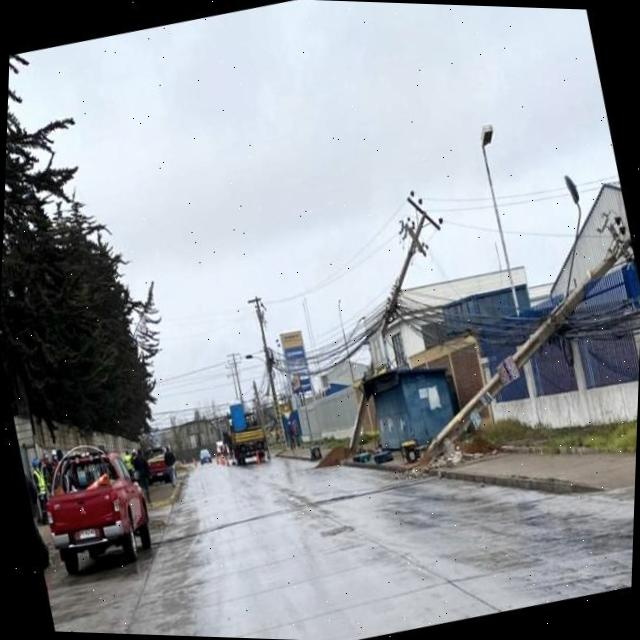Broken Pole: (420, 175, 637, 466), (348, 187, 444, 451)
